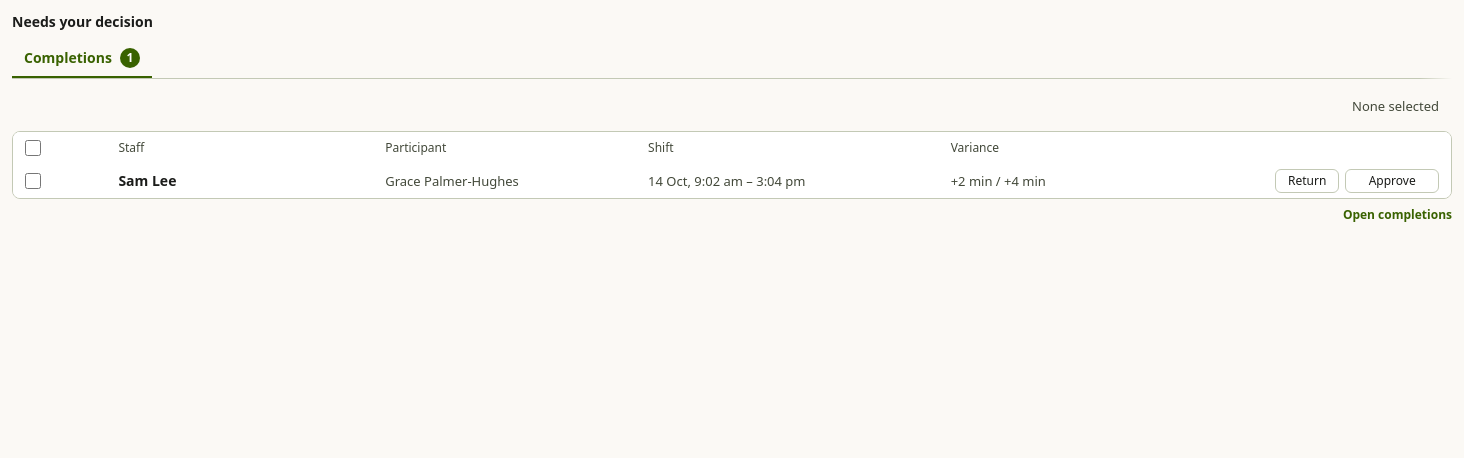
Test: Shift completions group — Return needs a reason › keeps the reason and shows the server's refusal in the field
Click the button with aria-label "Return shift: Sam Lee with Grace Palmer-Hughes, 14 Oct" at (1307, 181), box [1275,169,1339,193]
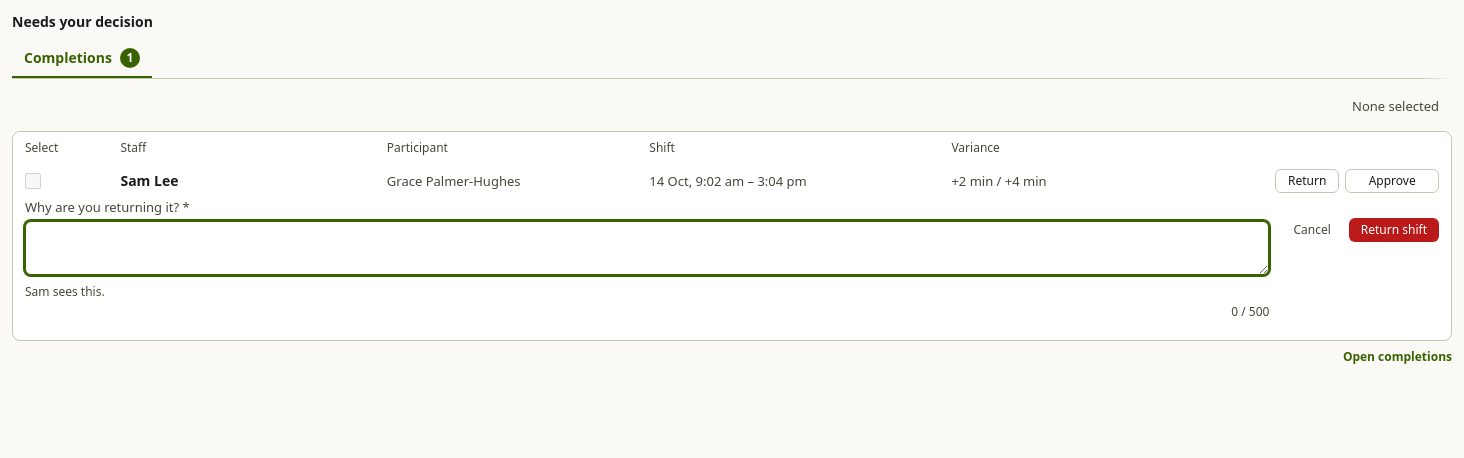
Type "Late start" into the text box labelled "Why are you returning it? *" at (647, 248), box [25,221,1269,275]
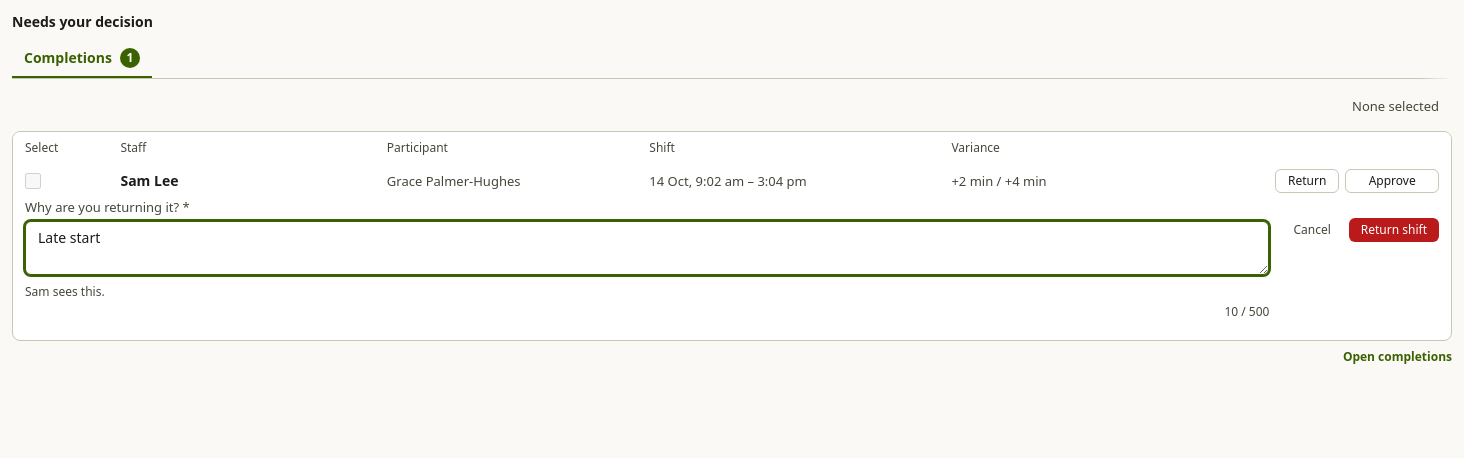
Click the button "Return shift" at (1394, 230), box [1349,218,1439,242]
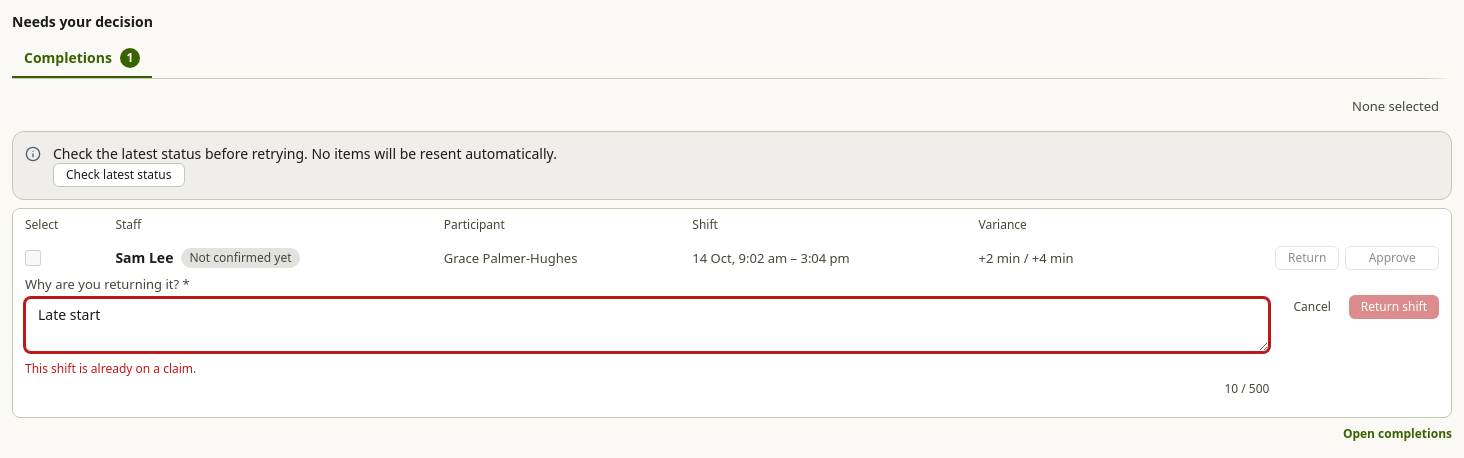
Check: the message "This shift is already on a claim." is shown, box [25,360,196,377]
